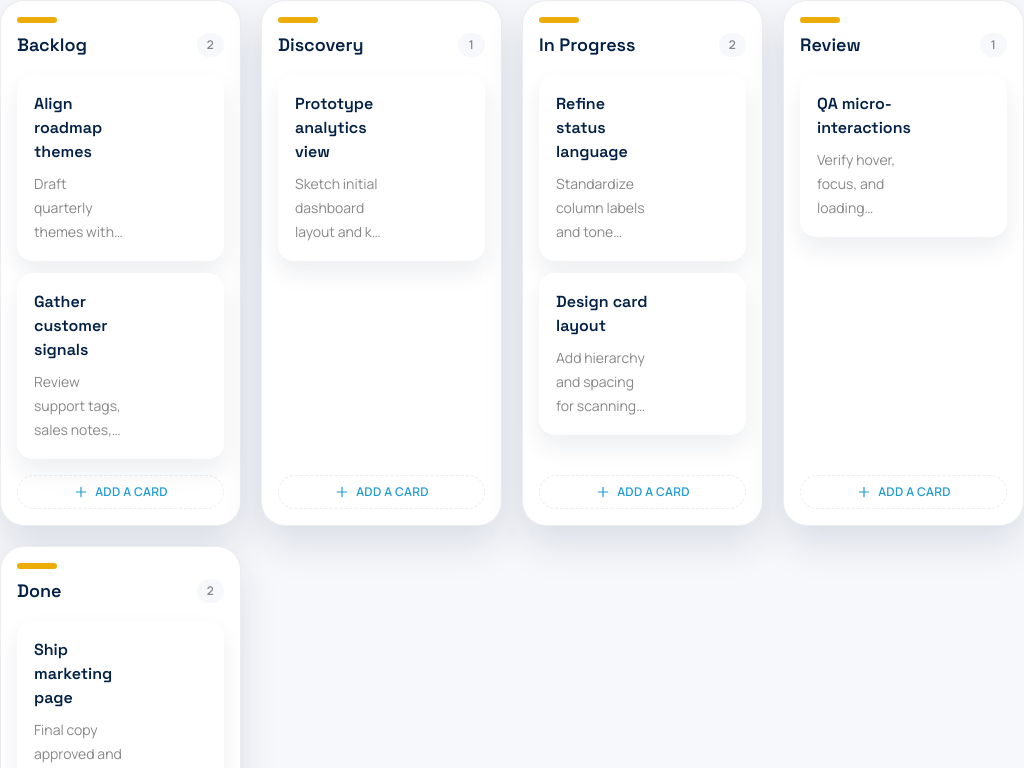
Test case: KanbanBoard › cancels the add-card form with the cancel icon button
Click the 1st button "Add a card" at (120, 492), box [17,475,224,509]
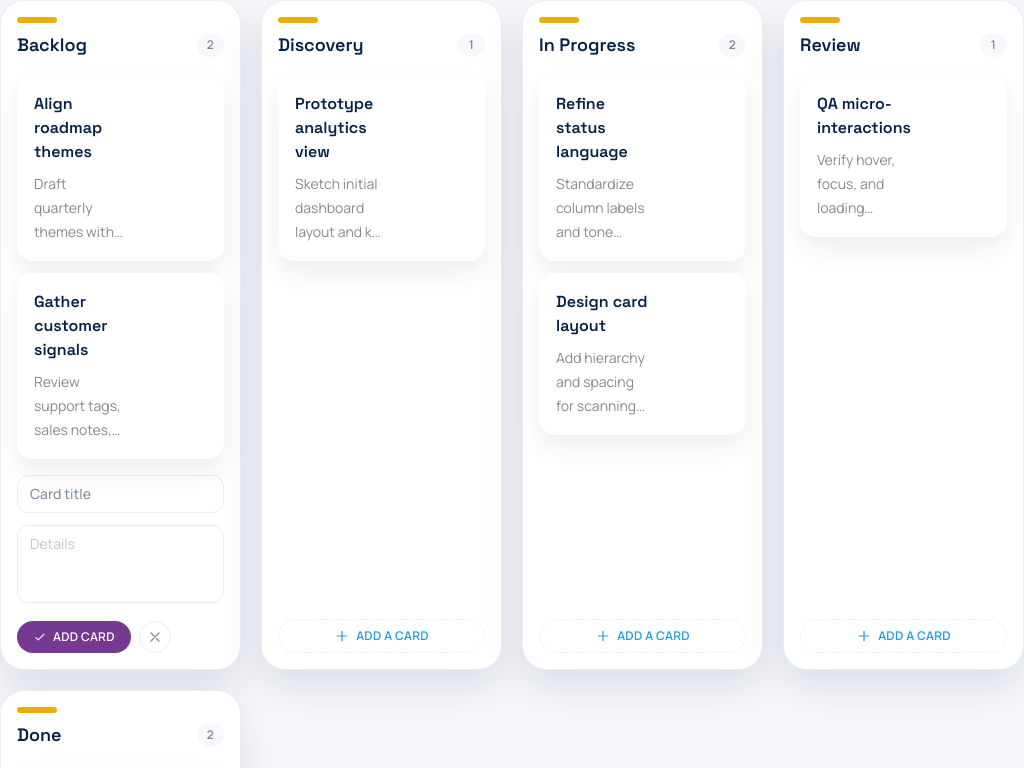
Check: the field with placeholder "Card title" is shown, box [17,475,224,513]
Click the button named "cancel" at (155, 637), box [139,621,171,653]
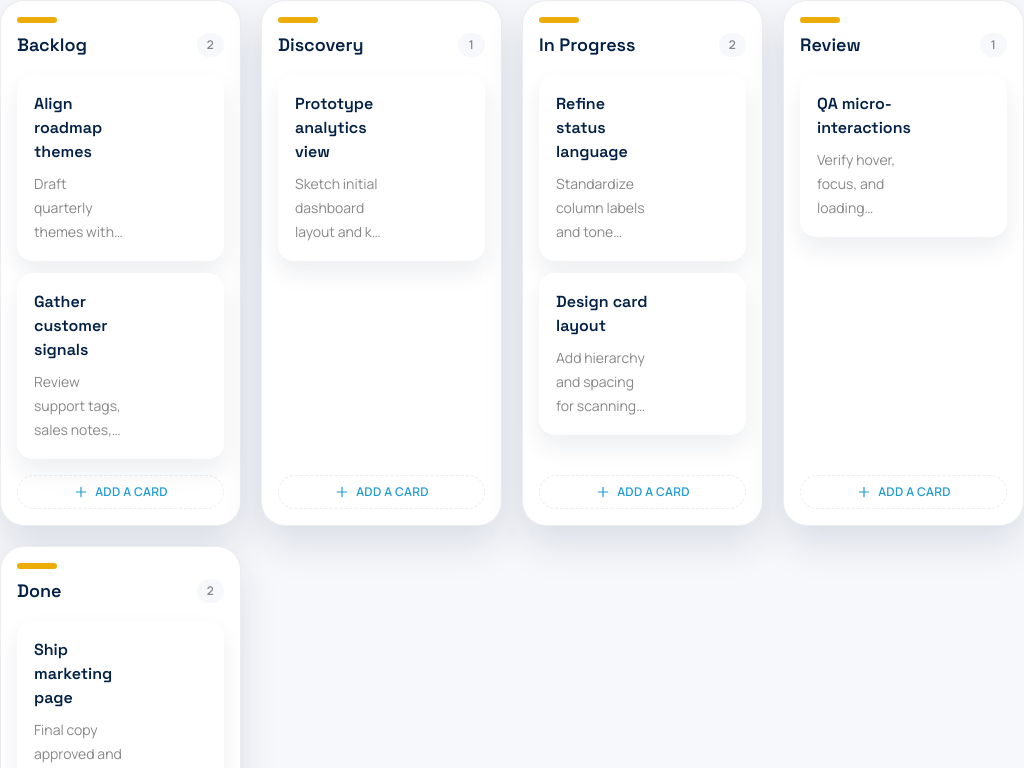
Check: the field with placeholder "card title" is not shown
Check: the 1st button "Add a card" is shown, box [17,475,224,509]
